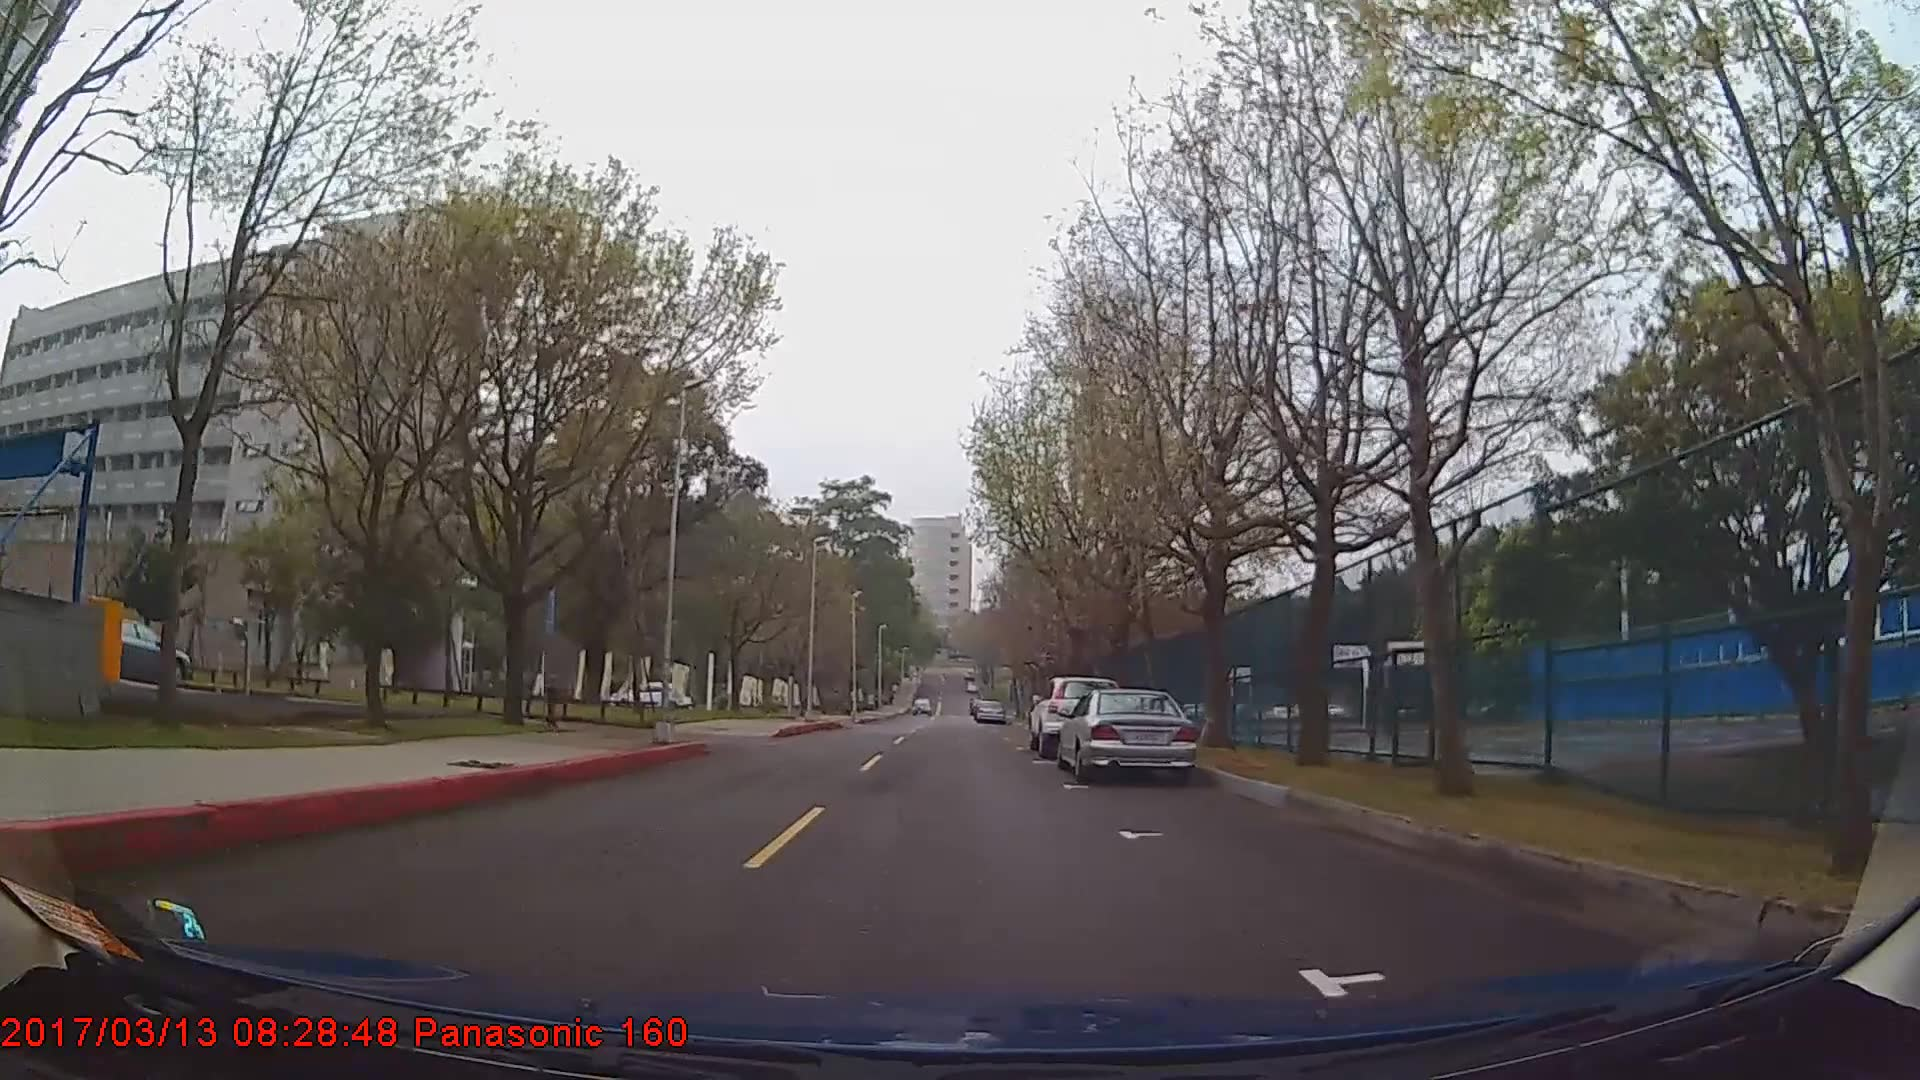vehicle: (1056, 687, 1199, 779), (75, 616, 191, 684), (1029, 673, 1121, 754), (617, 680, 694, 711), (975, 696, 1006, 724)
